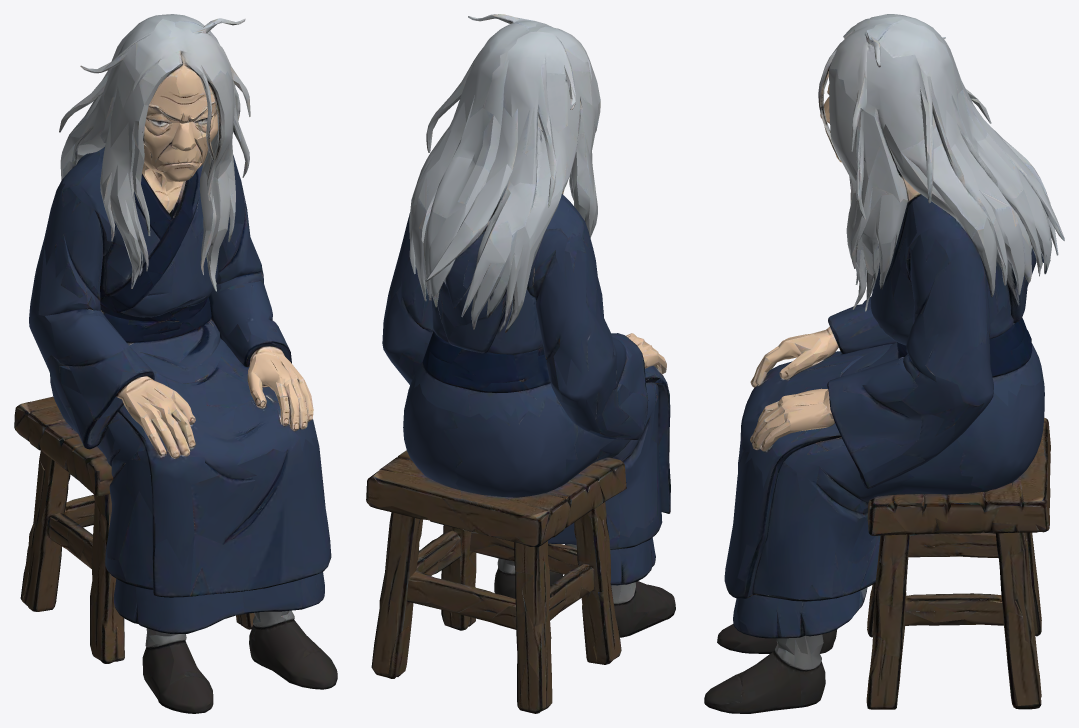
File: hama2.glb
3 views of the same model, side by side, from view 1: azimuth 30°, elevation 25°; view 2: azimuth 150°, elevation 25°; view 3: azimuth 270°, elevation 25° (orthographic). The views are drawn at different scales.
Visible parts, largest first — view 1: Mesh_0; view 2: Mesh_0; view 3: Mesh_0.
Part boxes in pixels (left/top/right/bottom): Mesh_0: left=14, top=14, right=337, bottom=713; Mesh_0: left=366, top=14, right=675, bottom=713; Mesh_0: left=704, top=14, right=1064, bottom=713.
Bounding box in the file's own units: 0.7104 × 1.9 × 0.9598.
1 material, 1 textured.
